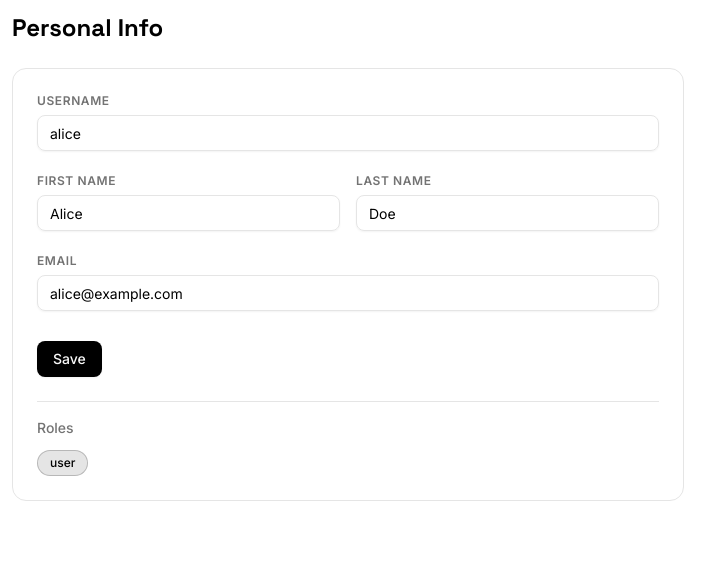
Scenario: ProfilePage › shows the server error message when the update fails
The width and height of the screenshot is (701, 588).
Expected: the field labelled "Username" is shown, 37,115 -> 659,151
Click the button "Save": coordinates (69, 359) 37,341 -> 102,377
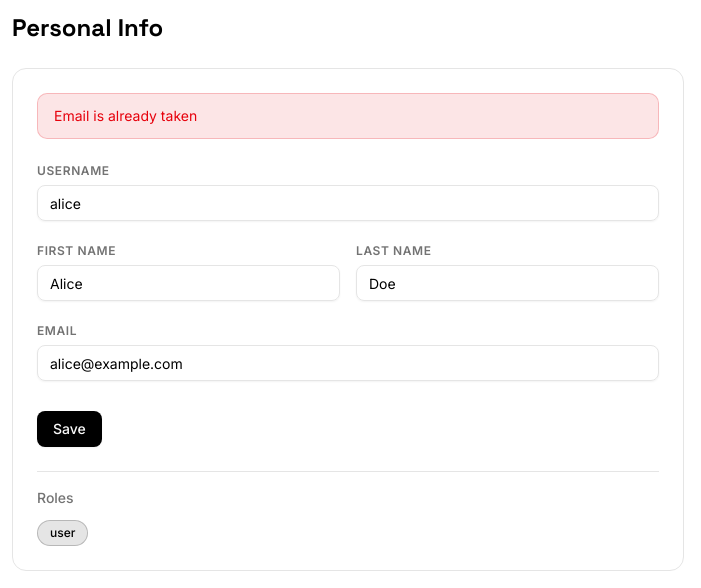
Now the text "Email is already taken" is shown, box 37,93 -> 659,139
